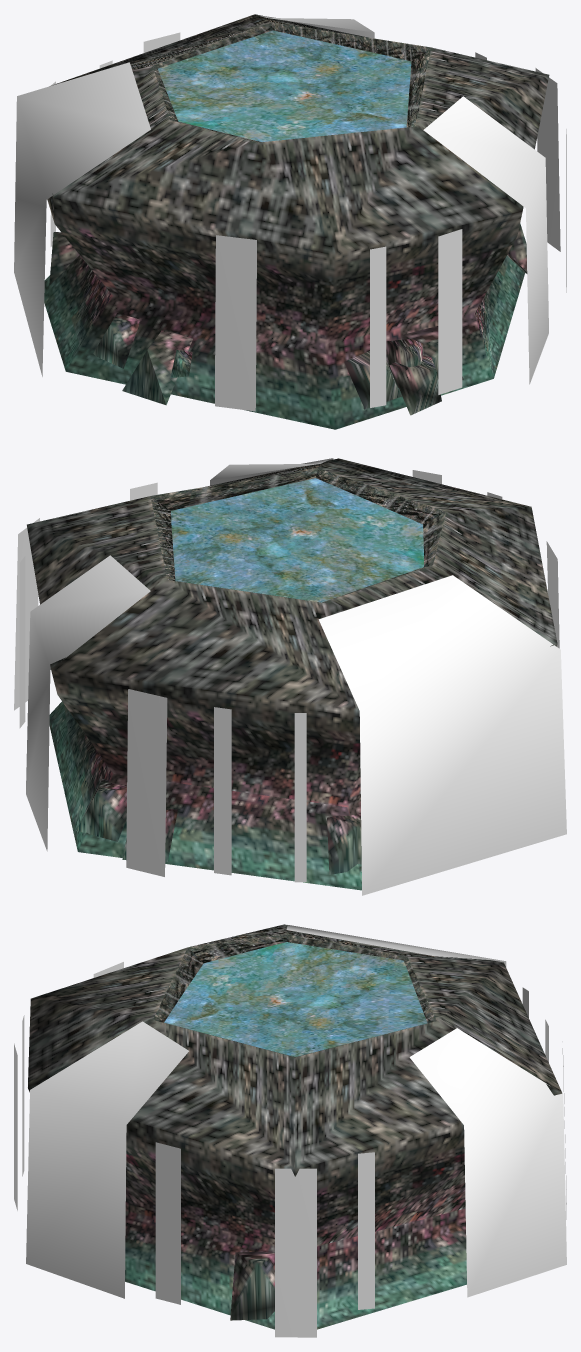
File: rock_agrlt_bowl_single_l4.fbx
3 views of the same model, one above another, from view 1: azimuth 30°, elevation 25°; view 2: azimuth 150°, elevation 25°; view 3: azimuth 270°, elevation 25° (orthographic). The views are drawn at different scales.
Visible parts, largest first — view 1: mesh_node; view 2: mesh_node; view 3: mesh_node.
Part boxes in pixels (x1,y1,x2,y2): mesh_node: (14,14,566,429); mesh_node: (14,458,566,895); mesh_node: (14,924,566,1337).
Size of the model in its own units: 42.1 by 18.72 by 39.93.
